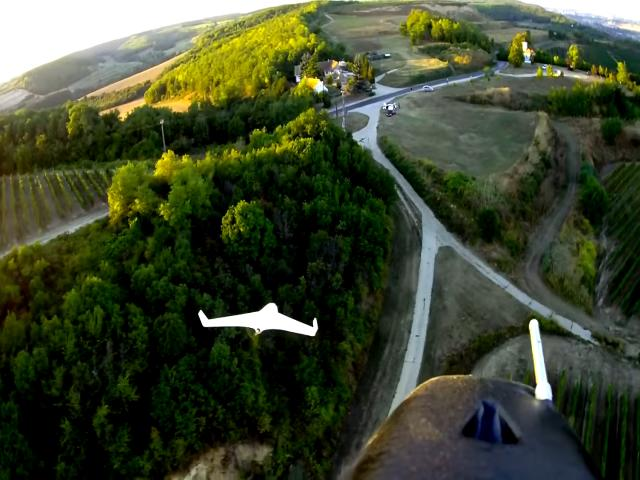plane: (197, 298, 317, 337)
